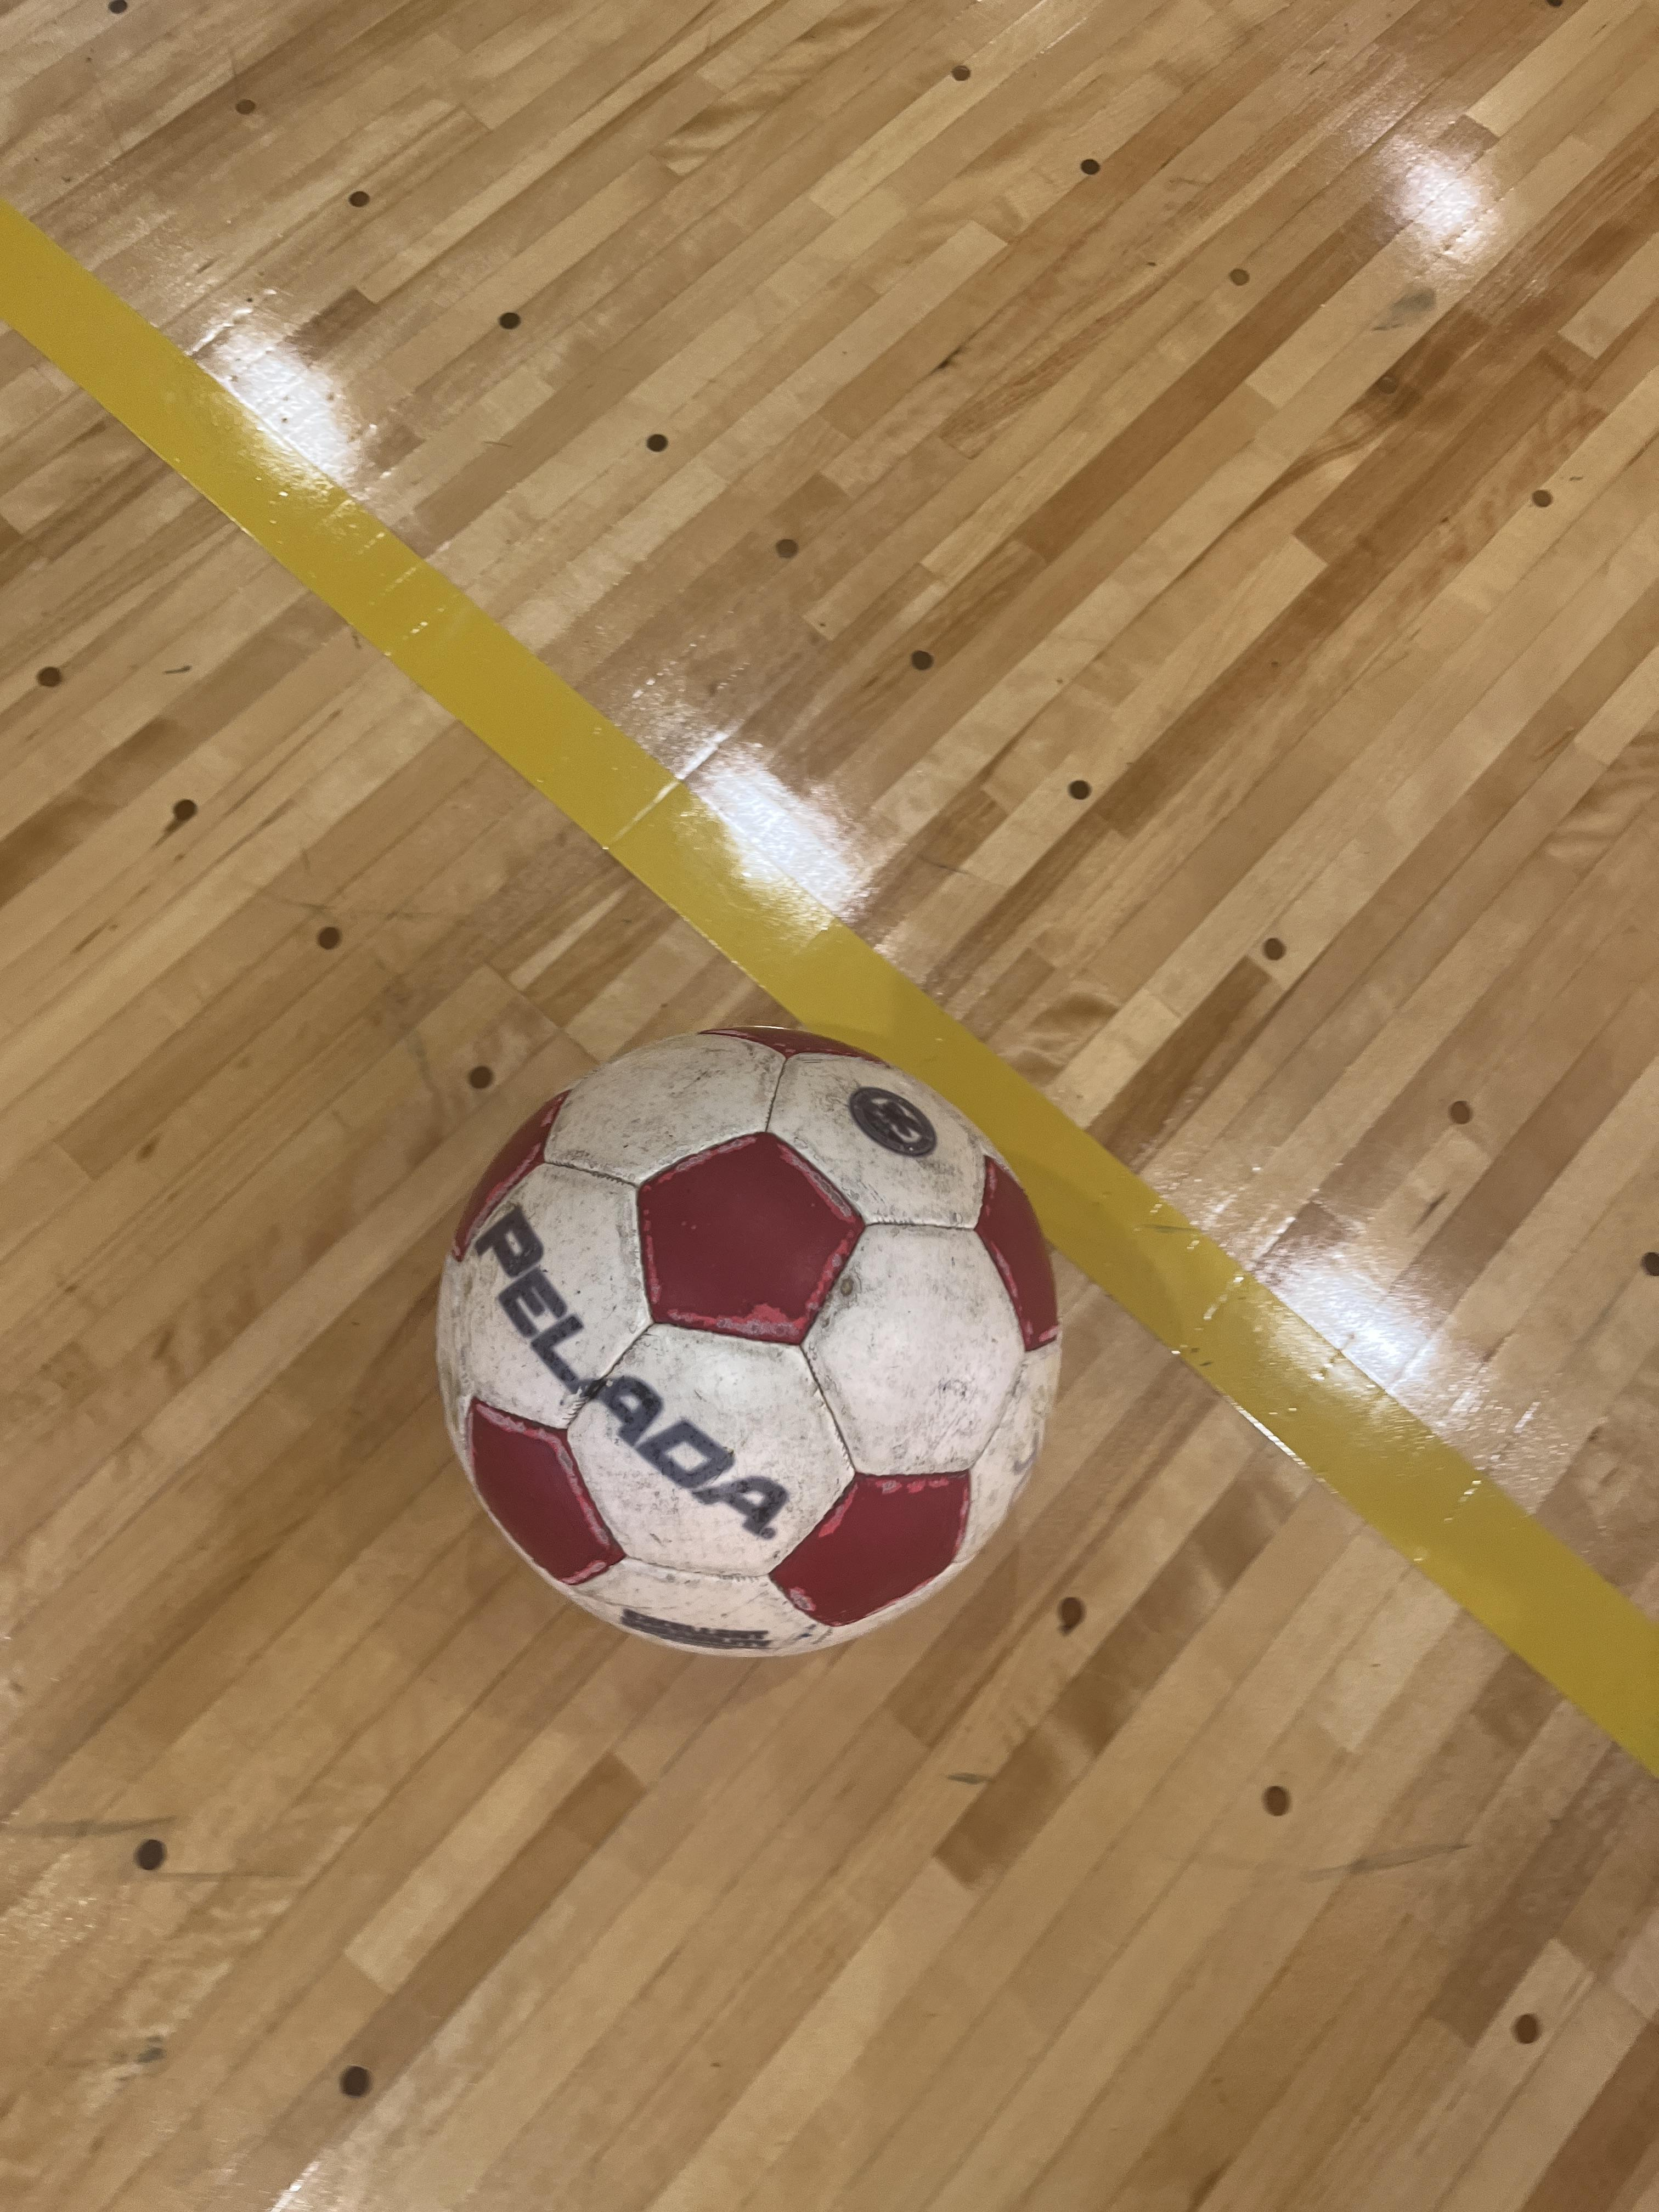Sports-Ball: (442, 1001, 1073, 1661)
